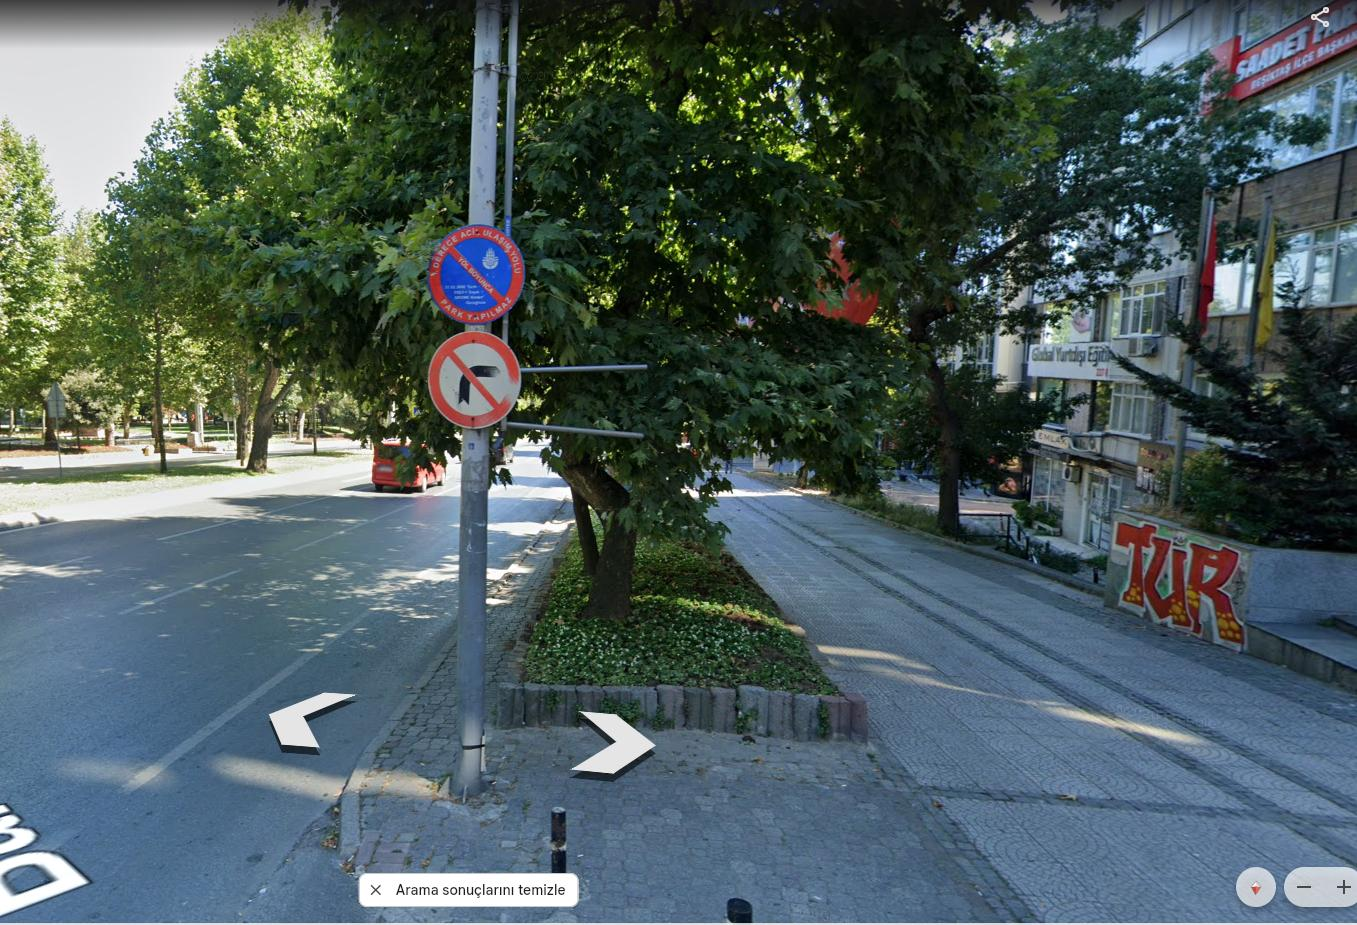rightturnsareforbidden: (435, 334, 522, 429)
